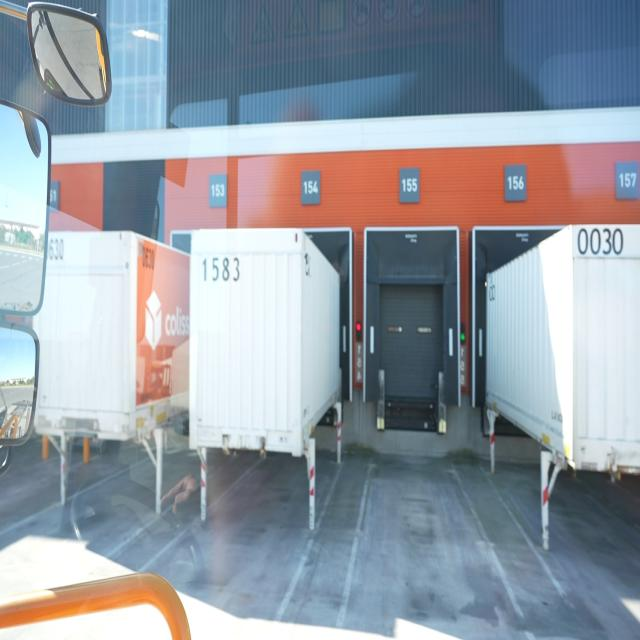Code: (574, 222, 626, 261), (198, 250, 243, 290)
